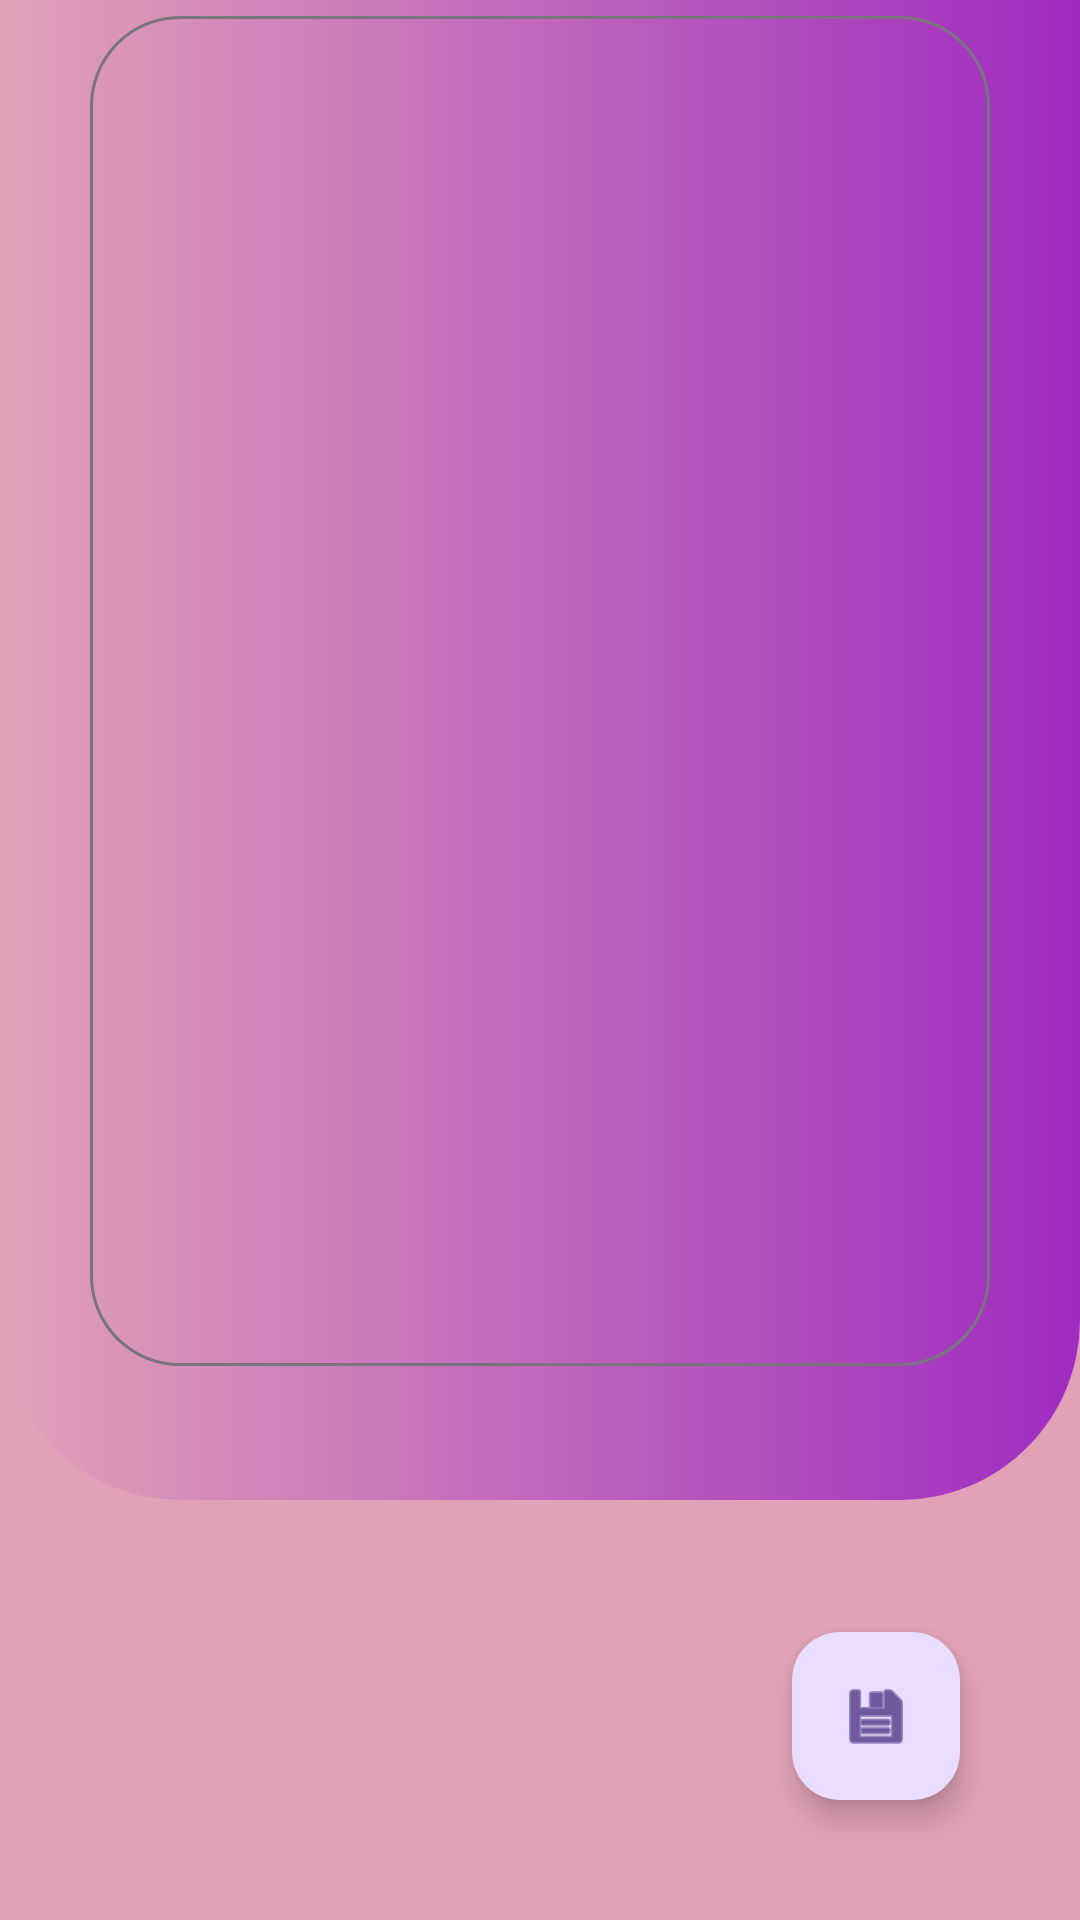

Screen size 1080x1920. Icon name, then its center in pixels as [x,y]:
save: [876,1716]
